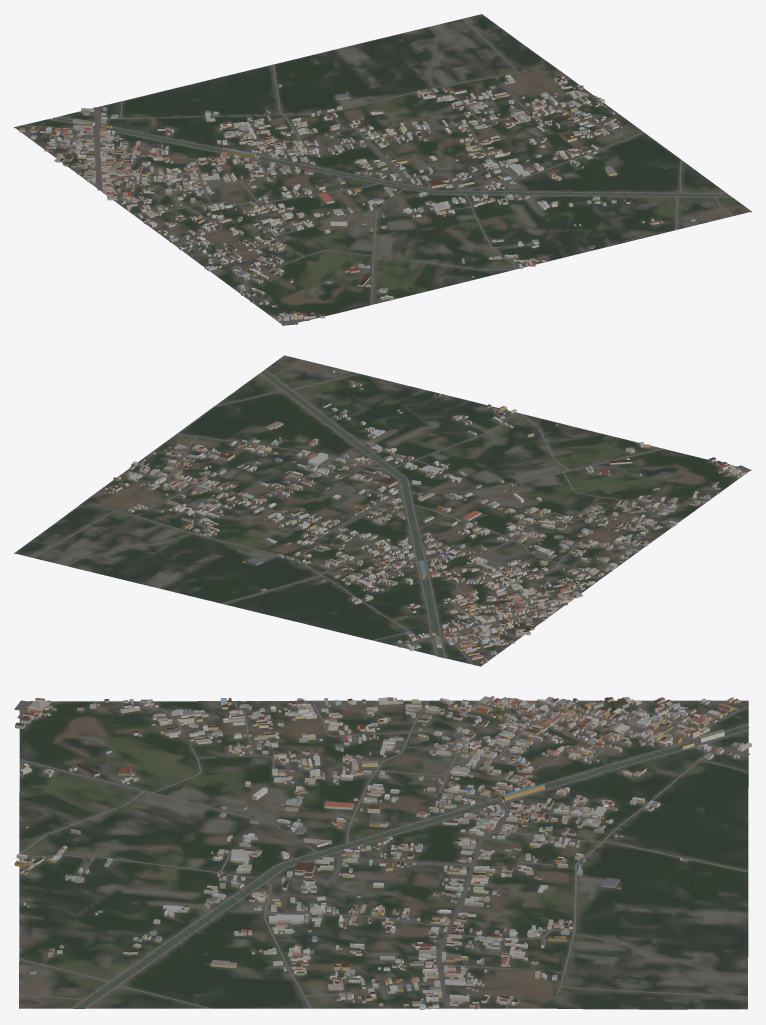
3 views of the same model, one above another, from view 1: azimuth 30°, elevation 25°; view 2: azimuth 150°, elevation 25°; view 3: azimuth 270°, elevation 25° (orthographic). The views are drawn at different scales.
Parts seen in each view (by area): view 1: ground, buildings, roads, water; view 2: ground, buildings, roads, water; view 3: ground, buildings, roads, water.
Part boxes in pixels (bbox=[...]): ground: bbox=[14, 14, 751, 323]; buildings: bbox=[19, 74, 695, 321]; roads: bbox=[22, 18, 732, 325]; water: bbox=[53, 117, 730, 196]; ground: bbox=[14, 355, 747, 666]; buildings: bbox=[104, 369, 745, 663]; roads: bbox=[33, 360, 751, 664]; water: bbox=[262, 371, 442, 657]; ground: bbox=[19, 700, 748, 1009]; buildings: bbox=[14, 696, 751, 1010]; roads: bbox=[14, 700, 749, 1008]; water: bbox=[76, 726, 749, 1008].
Bounding box in the file's own units: 1418 × 17.25 × 1418.
